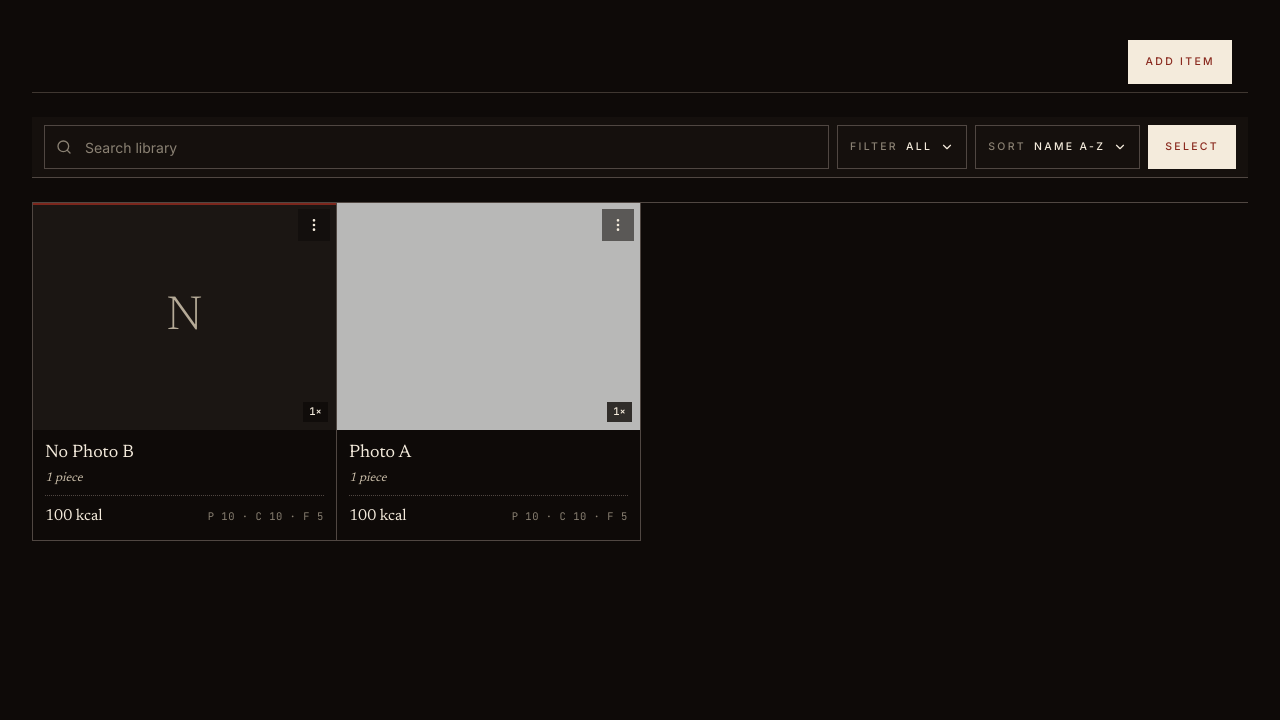
Test case: <LibraryClient /> integration › filter=with-photos hides items without thumbnails
The width and height of the screenshot is (1280, 720).
What coordinates should you click on to do the following:
click the button with test id "library-filter-trigger"
I would click on:
 (902, 147)
Its box is x1=837 y1=125 x2=967 y2=169.
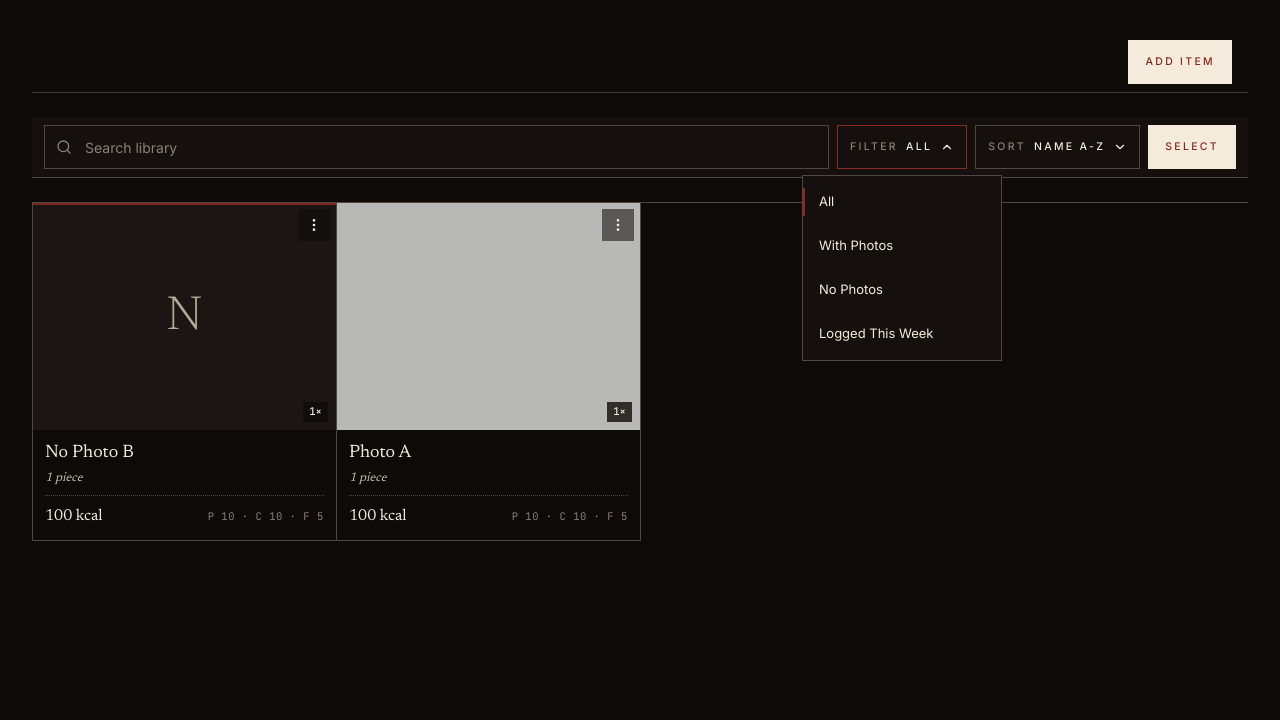
What coordinates should you click on to do the following:
click the menu item with test id "library-filter-option-with-photos"
I would click on:
 (856, 245)
Its box is x1=819 y1=237 x2=893 y2=253.
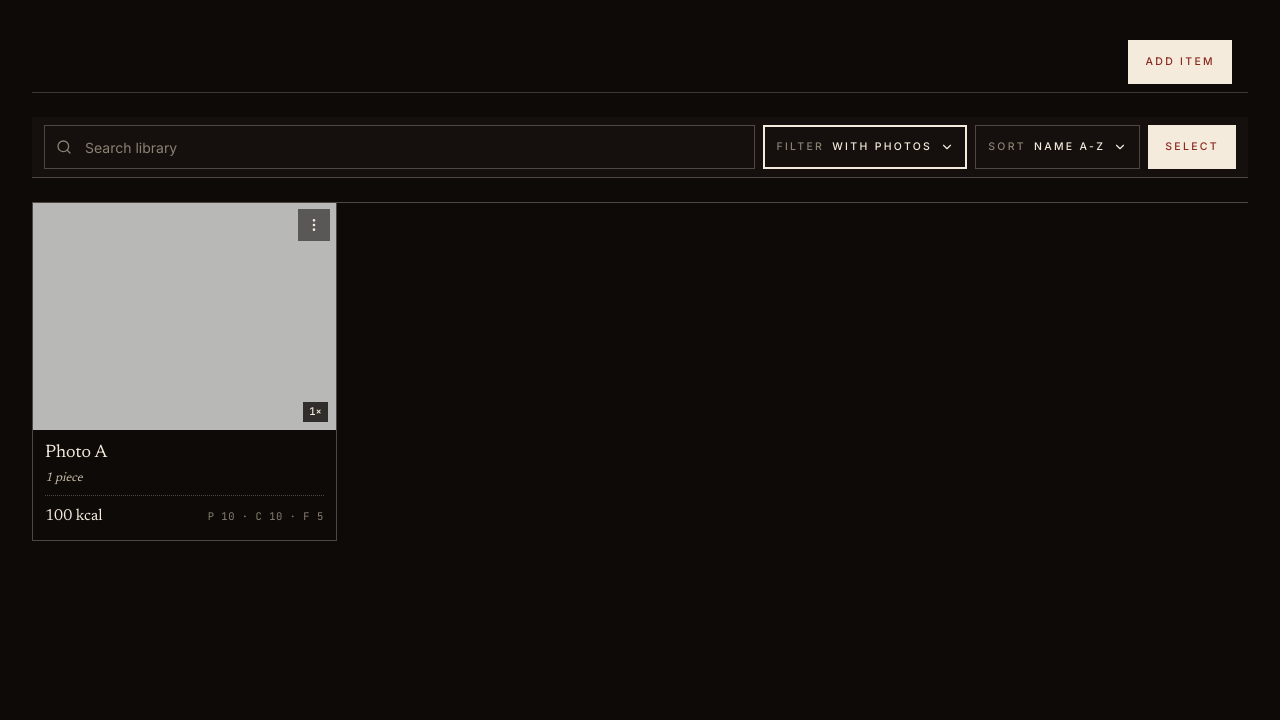
Expected: the element with test id "library-card-b" is gone
